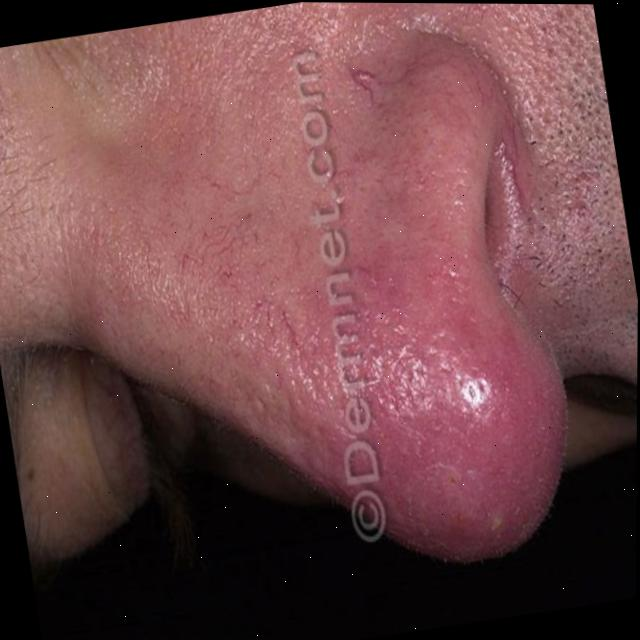Rosacea: (148, 41, 577, 603)
